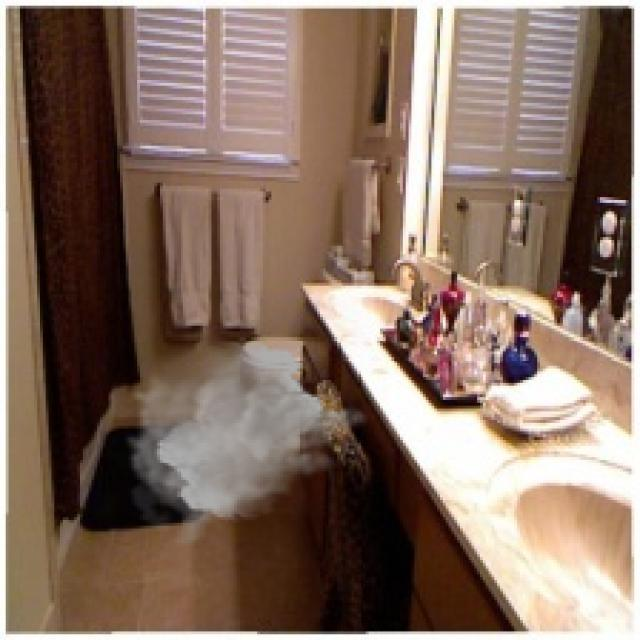Smoke: (122, 337, 372, 549)
